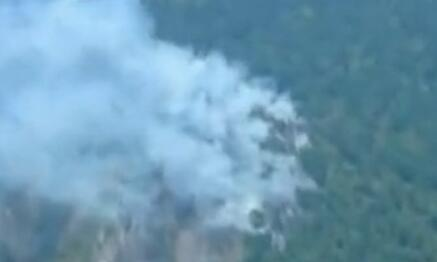yanwu: (16, 1, 316, 248)
